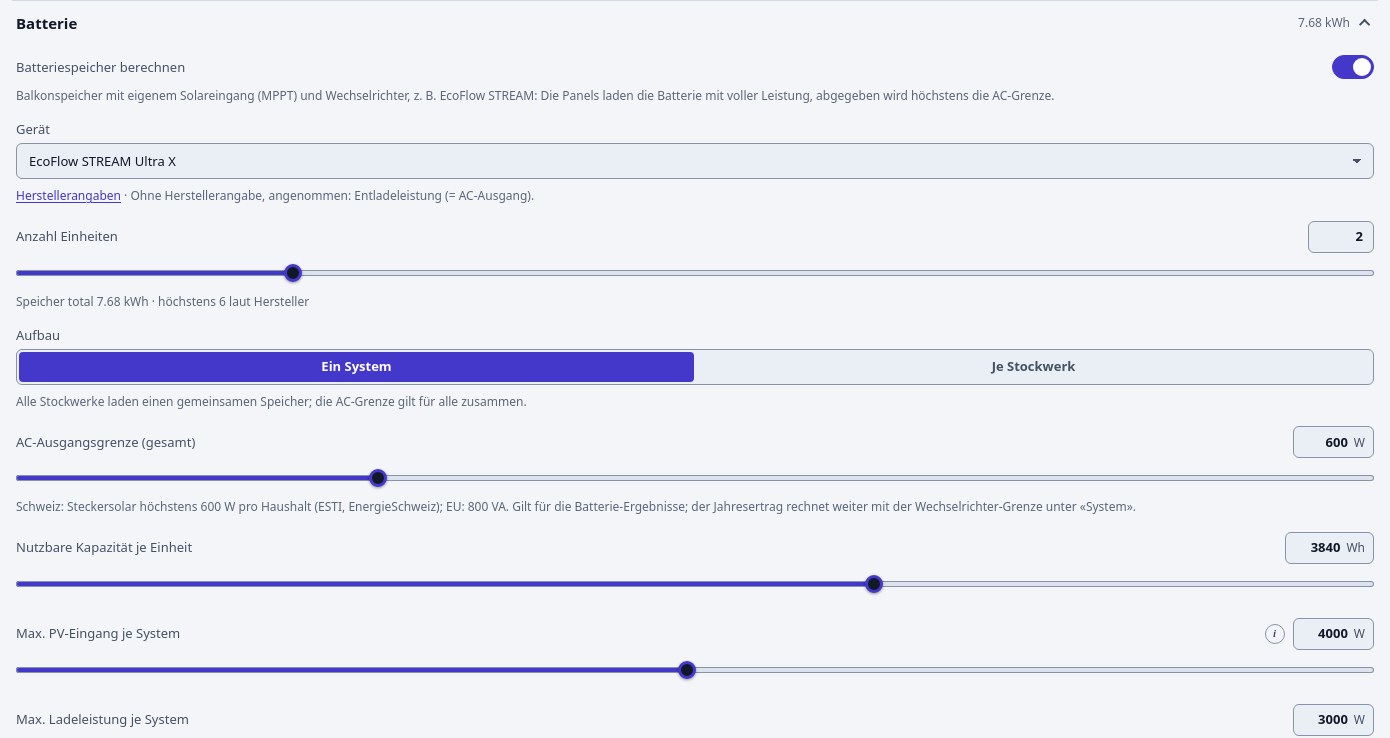
Test: BatterySection › applies another preset and hides the base load in self-consumption mode
This screenshot has width=1390, height=738.
Select "Zendure SolarFlow 800 Pro" in the dropdown labelled "Gerät": (695, 161) [16,143,1374,179]
(page scrolled)
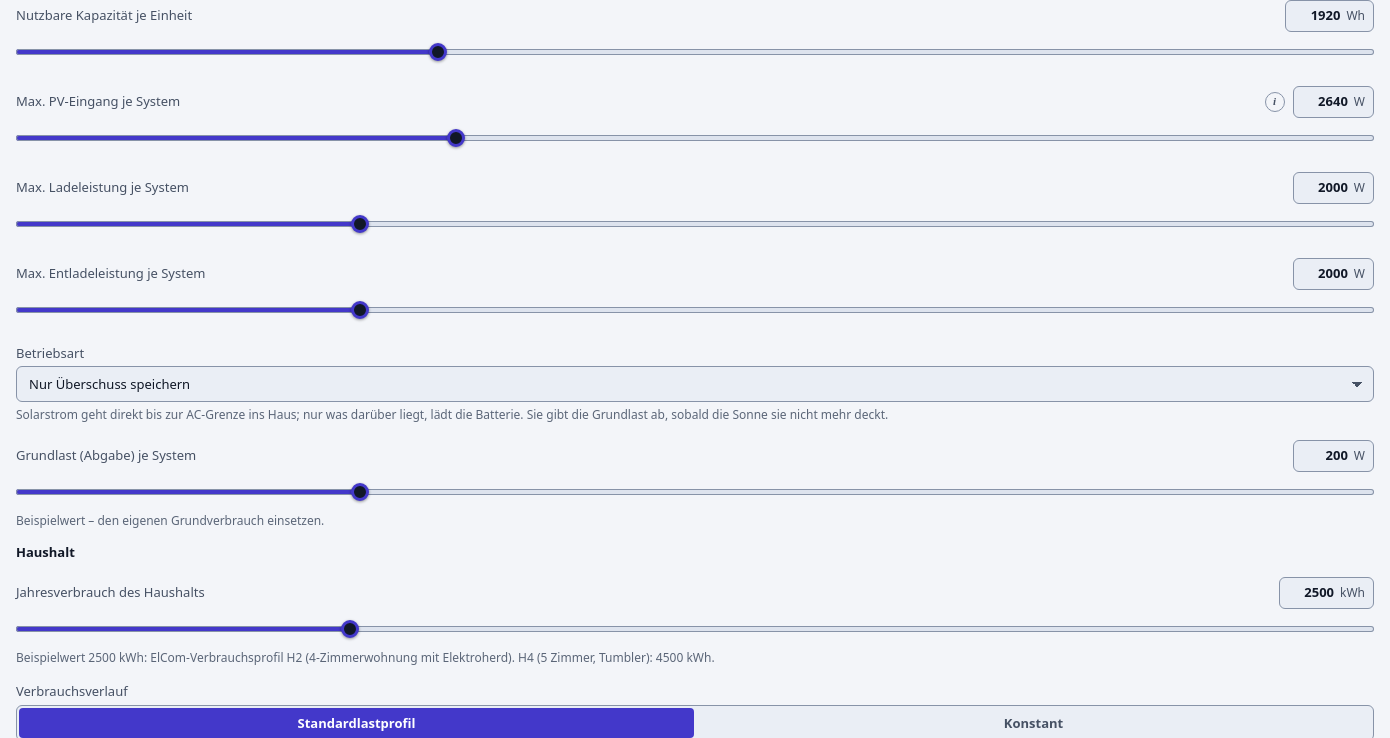
Expected: the field labelled "Grundlast (Abgabe) je System" is shown, [1302,446,1350,466]
Select "Eigenverbrauch (Smart Meter)" in the dropdown labelled "Betriebsart": (695, 384) [16,366,1374,402]
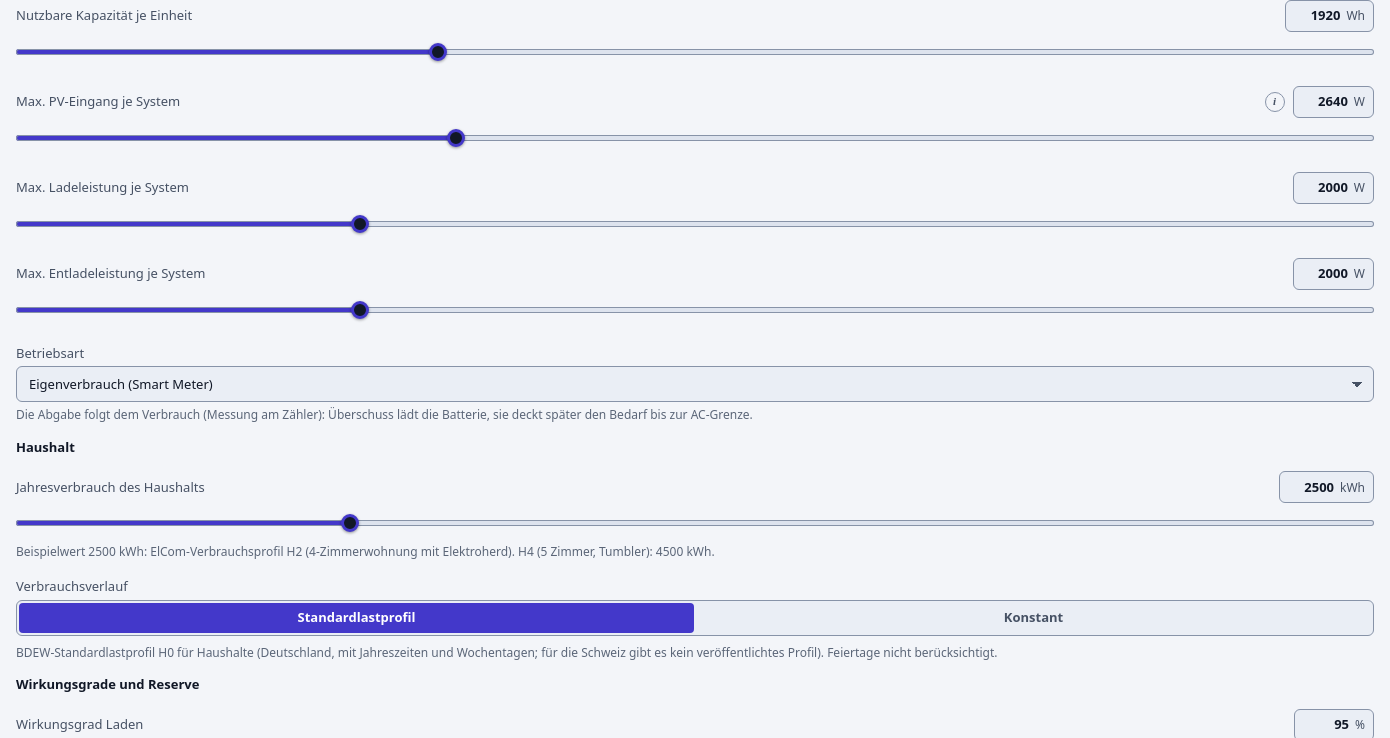
Expected: the label "Grundlast (Abgabe) je System" is gone
